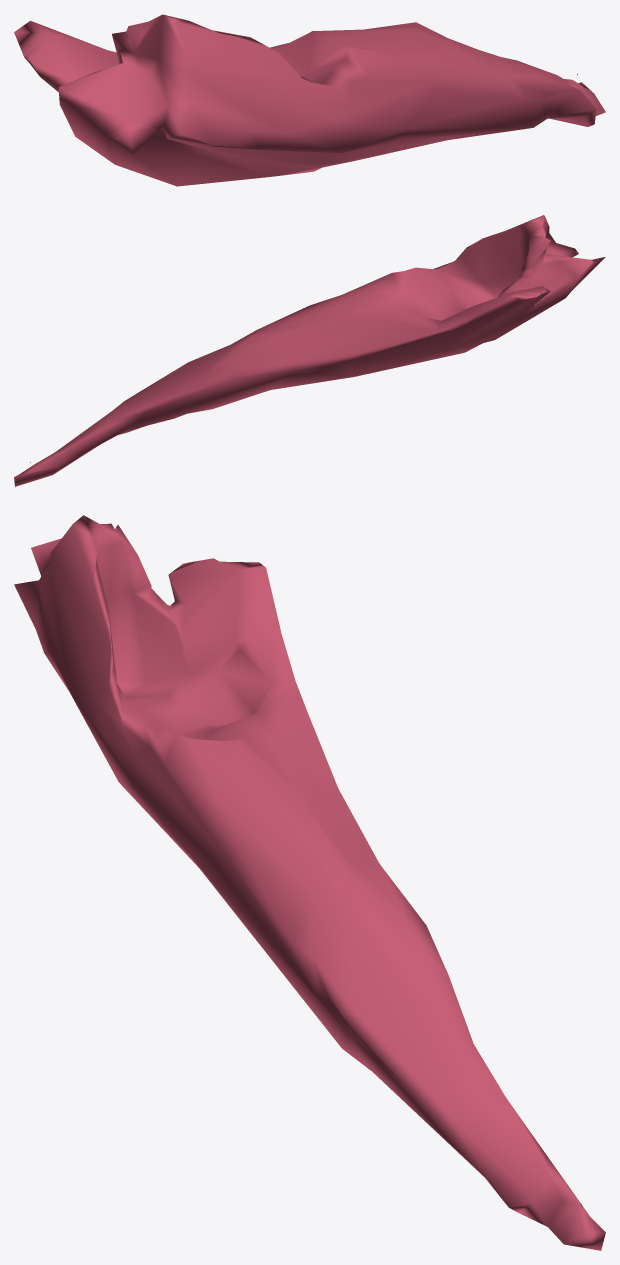
3 views of the same model, one above another, from view 1: azimuth 30°, elevation 25°; view 2: azimuth 150°, elevation 25°; view 3: azimuth 270°, elevation 25° (orthographic). The views are drawn at different scales.
Parts seen in each view (by area): view 1: 左侧拇收肌斜头; view 2: 左侧拇收肌斜头; view 3: 左侧拇收肌斜头.
Part boxes in pixels (x1=…): 左侧拇收肌斜头: x1=14, y1=14, x2=605, y2=186; 左侧拇收肌斜头: x1=14, y1=215, x2=605, y2=486; 左侧拇收肌斜头: x1=14, y1=515, x2=605, y2=1250.
Size of the model in its own units: 0.0648 by 0.0363 by 0.0458.
